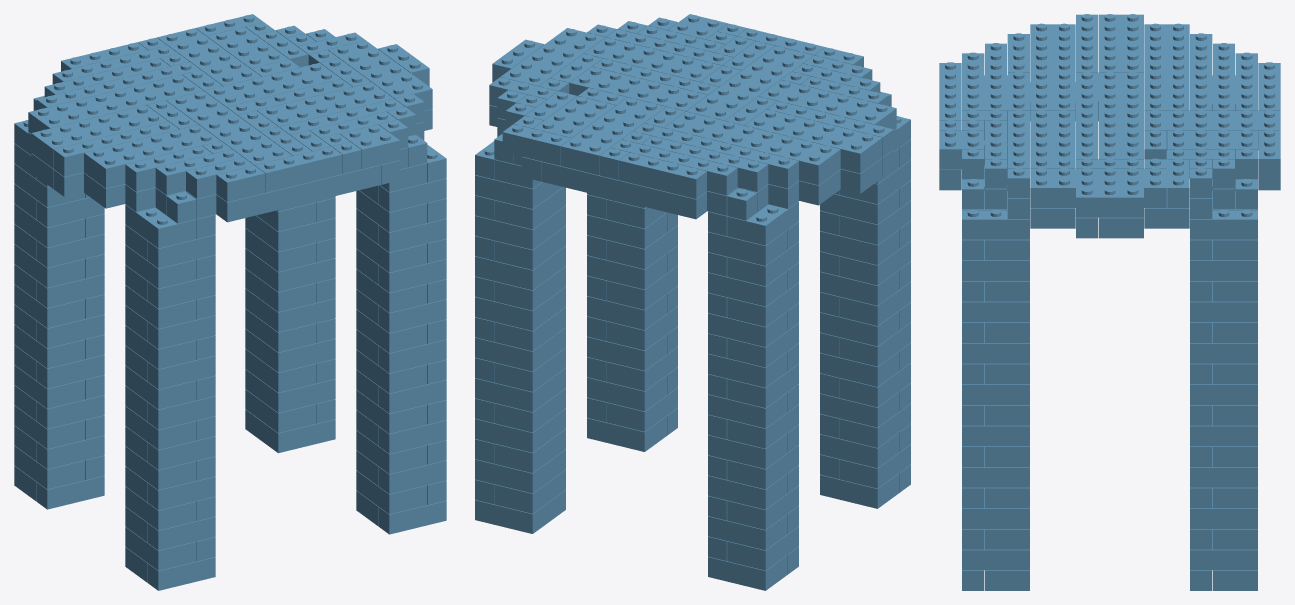
Rendered from collab_table-L4V5_raw.glb.
The picture shows the model from 3 angles, left to right: view 1: azimuth 30°, elevation 25°; view 2: azimuth 150°, elevation 25°; view 3: azimuth 270°, elevation 25°; orthographic projection. The views are drawn at different scales.
Size of the model in its own units: 18.98 by 20.13 by 14.98.
